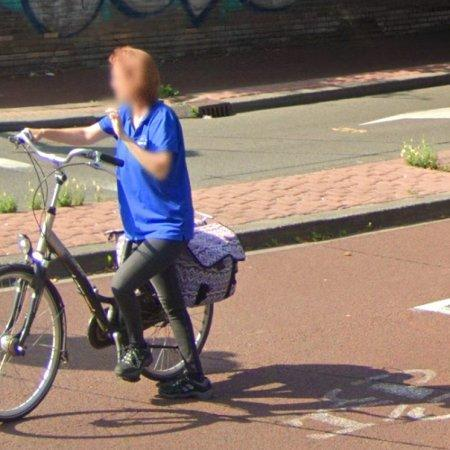bicycles: (0, 130, 126, 423), (176, 222, 245, 355), (134, 281, 187, 386)
